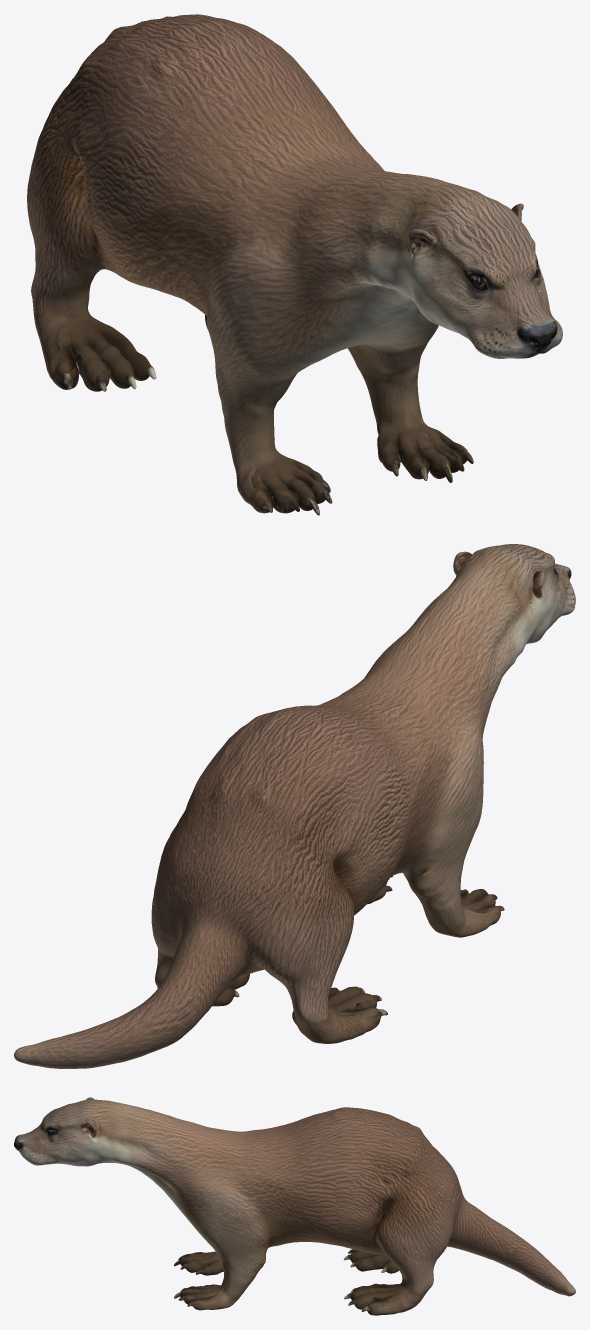
Rendered from eurasian-otter.glb.
The picture shows the model from 3 angles, top to bottom: view 1: azimuth 30°, elevation 25°; view 2: azimuth 150°, elevation 25°; view 3: azimuth 270°, elevation 25°; orthographic projection. The views are drawn at different scales.
Visible parts, largest first — view 1: tripo_node_f8169a86-c6e2-4c0e-b992-e63635d3a324; view 2: tripo_node_f8169a86-c6e2-4c0e-b992-e63635d3a324; view 3: tripo_node_f8169a86-c6e2-4c0e-b992-e63635d3a324.
Part boxes in pixels (left/top/right/bottom): tripo_node_f8169a86-c6e2-4c0e-b992-e63635d3a324: left=27, top=14, right=562, bottom=515; tripo_node_f8169a86-c6e2-4c0e-b992-e63635d3a324: left=14, top=544, right=575, bottom=1068; tripo_node_f8169a86-c6e2-4c0e-b992-e63635d3a324: left=14, top=1097, right=575, bottom=1315.
Size of the model in its own units: 0.2694 by 0.3636 by 1.
1 material, 1 textured.
